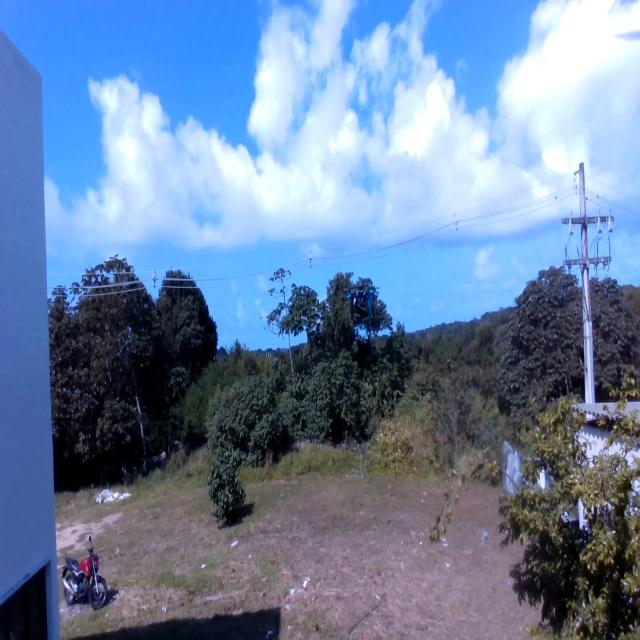-uav-: (339, 272, 387, 332)
